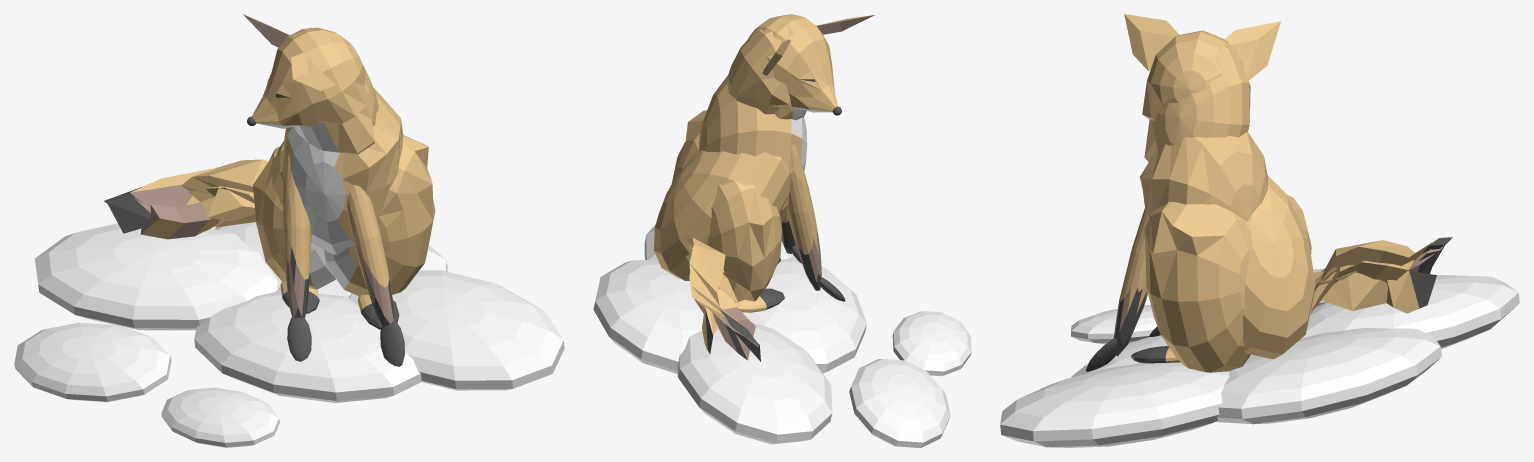
The model's file is fox-by-chun-wu-1dWAYYfUAhn.glb.
3 views of the same model, side by side, from view 1: azimuth 30°, elevation 25°; view 2: azimuth 150°, elevation 25°; view 3: azimuth 270°, elevation 25° (orthographic). The views are drawn at different scales.
Visible parts, largest first — view 1: group292672434, group757841369, group1937405526, group252756100, group630562865, group1897832069, group505595260, group1270259114, group98992396, group1320418943, group1011068755, group277124041 (+9 smaller); view 2: group292672434, group1198958360, group1359974799, group757841369, group252756100, group277124041, group630562865, group1897832069, group1270259114, group1218120644, group1011068755, group1320418943 (+7 smaller); view 3: group505595260, group1937405526, group1198958360, group1359974799, group630562865, group292672434, group1218120644, group1897832069, group186513244, group98992396, group1320418943, group1720788637 (+6 smaller).
Part boxes in pixels (left/top/right/bottom): group292672434: left=35, top=223, right=278, bottom=330; group757841369: left=194, top=291, right=422, bottom=402; group1937405526: left=348, top=270, right=564, bottom=390; group252756100: left=14, top=322, right=171, bottom=402; group630562865: left=282, top=88, right=403, bottom=255; group1897832069: left=252, top=27, right=366, bottom=128; group505595260: left=324, top=135, right=435, bottom=295; group1270259114: left=161, top=387, right=279, bottom=447; group98992396: left=347, top=185, right=394, bottom=327; group1320418943: left=104, top=159, right=268, bottom=207; group1011068755: left=283, top=147, right=310, bottom=317; group277124041: left=252, top=146, right=335, bottom=289; group292672434: left=677, top=322, right=832, bottom=444; group1198958360: left=593, top=259, right=703, bottom=373; group1359974799: left=654, top=150, right=789, bottom=280; group757841369: left=742, top=257, right=866, bottom=373; group252756100: left=849, top=359, right=950, bottom=447; group277124041: left=708, top=181, right=781, bottom=302; group630562865: left=698, top=75, right=807, bottom=222; group1897832069: left=748, top=14, right=837, bottom=112; group1270259114: left=892, top=311, right=971, bottom=376; group1218120644: left=727, top=23, right=806, bottom=120; group1011068755: left=787, top=145, right=821, bottom=290; group1320418943: left=685, top=237, right=758, bottom=346; group505595260: left=1144, top=201, right=1250, bottom=372; group1937405526: left=1000, top=362, right=1229, bottom=447; group1198958360: left=1216, top=328, right=1441, bottom=424; group1359974799: left=1243, top=175, right=1315, bottom=358; group630562865: left=1139, top=132, right=1268, bottom=221; group292672434: left=1301, top=275, right=1519, bottom=348; group1218120644: left=1144, top=34, right=1250, bottom=161; group1897832069: left=1142, top=30, right=1242, bottom=120; group186513244: left=1311, top=271, right=1436, bottom=313; group98992396: left=1113, top=208, right=1147, bottom=356; group1320418943: left=1314, top=237, right=1452, bottom=290; group1720788637: left=1224, top=21, right=1280, bottom=80.
Bounding box in the file's own units: 1.33 × 1.1 × 1.4.
